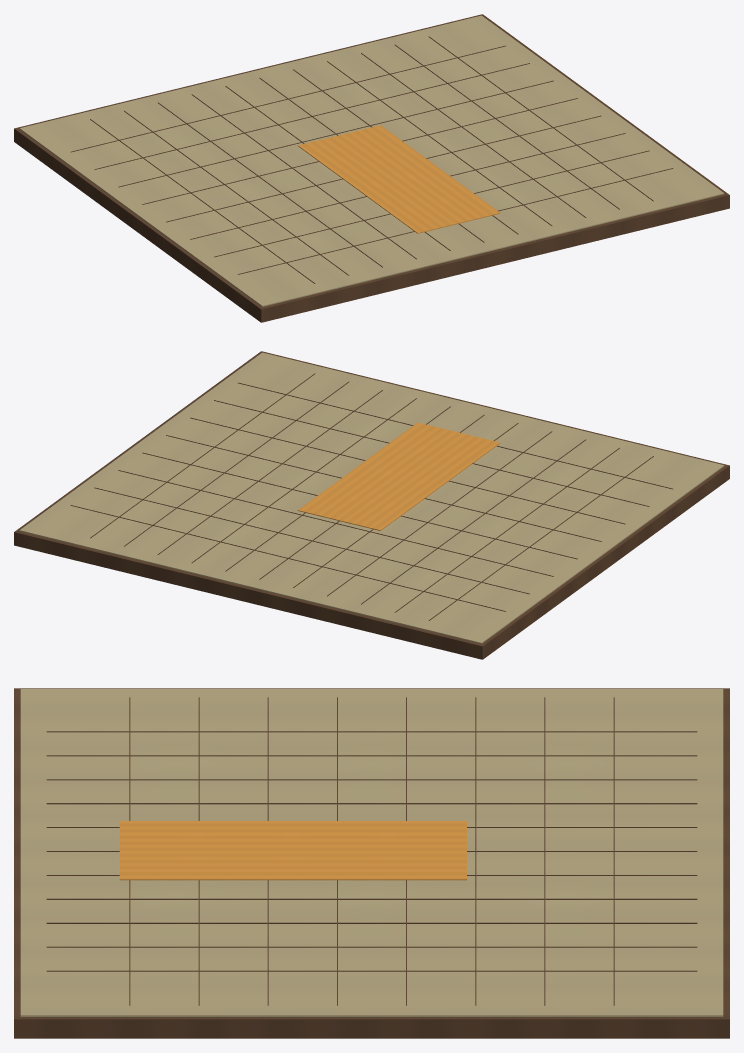
The model's file is atlas100-s013-a07.glb.
3 views of the same model, one above another, from view 1: azimuth 30°, elevation 25°; view 2: azimuth 150°, elevation 25°; view 3: azimuth 270°, elevation 25° (orthographic). The views are drawn at different scales.
Parts seen in each view (by area): view 1: atlas100-s013-a07:part-001, atlas100-s013-a07:part-000, atlas100-s013-a07:part-021, atlas100-s013-a07:part-015, atlas100-s013-a07:part-014, atlas100-s013-a07:part-013, atlas100-s013-a07:part-017, atlas100-s013-a07:part-016, atlas100-s013-a07:part-019, atlas100-s013-a07:part-018, atlas100-s013-a07:part-020; view 2: atlas100-s013-a07:part-001, atlas100-s013-a07:part-000, atlas100-s013-a07:part-021, atlas100-s013-a07:part-013, atlas100-s013-a07:part-015, atlas100-s013-a07:part-014, atlas100-s013-a07:part-016, atlas100-s013-a07:part-017, atlas100-s013-a07:part-019, atlas100-s013-a07:part-018, atlas100-s013-a07:part-020; view 3: atlas100-s013-a07:part-001, atlas100-s013-a07:part-000, atlas100-s013-a07:part-021, atlas100-s013-a07:part-009, atlas100-s013-a07:part-011, atlas100-s013-a07:part-012, atlas100-s013-a07:part-004, atlas100-s013-a07:part-005, atlas100-s013-a07:part-002, atlas100-s013-a07:part-003, atlas100-s013-a07:part-010, atlas100-s013-a07:part-015 (+2 smaller).
Boxes of the visible parts, x1,y1,x2,y2 form: atlas100-s013-a07:part-001: [19, 15, 724, 306]; atlas100-s013-a07:part-000: [14, 14, 729, 322]; atlas100-s013-a07:part-021: [297, 125, 500, 233]; atlas100-s013-a07:part-015: [118, 80, 553, 187]; atlas100-s013-a07:part-014: [94, 63, 529, 169]; atlas100-s013-a07:part-013: [71, 45, 505, 152]; atlas100-s013-a07:part-017: [166, 115, 601, 222]; atlas100-s013-a07:part-016: [142, 98, 577, 204]; atlas100-s013-a07:part-019: [214, 150, 649, 257]; atlas100-s013-a07:part-018: [190, 133, 625, 239]; atlas100-s013-a07:part-020: [238, 168, 673, 274]; atlas100-s013-a07:part-001: [19, 352, 724, 643]; atlas100-s013-a07:part-000: [14, 351, 729, 659]; atlas100-s013-a07:part-021: [297, 422, 500, 530]; atlas100-s013-a07:part-013: [70, 505, 505, 611]; atlas100-s013-a07:part-015: [118, 470, 553, 576]; atlas100-s013-a07:part-014: [94, 487, 529, 594]; atlas100-s013-a07:part-016: [142, 452, 577, 559]; atlas100-s013-a07:part-017: [166, 435, 601, 541]; atlas100-s013-a07:part-019: [214, 400, 649, 506]; atlas100-s013-a07:part-018: [190, 417, 625, 524]; atlas100-s013-a07:part-020: [238, 382, 672, 489]; atlas100-s013-a07:part-001: [20, 689, 723, 1016]; atlas100-s013-a07:part-000: [14, 688, 729, 1038]; atlas100-s013-a07:part-021: [119, 821, 466, 880]; atlas100-s013-a07:part-009: [46, 898, 697, 899]; atlas100-s013-a07:part-011: [46, 946, 697, 947]; atlas100-s013-a07:part-012: [46, 970, 697, 971]; atlas100-s013-a07:part-004: [46, 779, 697, 780]; atlas100-s013-a07:part-005: [46, 803, 697, 804]; atlas100-s013-a07:part-002: [46, 731, 697, 732]; atlas100-s013-a07:part-003: [46, 755, 697, 756]; atlas100-s013-a07:part-010: [46, 922, 697, 923]; atlas100-s013-a07:part-015: [475, 697, 476, 1005].
Size of the model in its own units: 12.46 by 0.404 by 11.39.
Materials: 3 (3 with a texture image).
